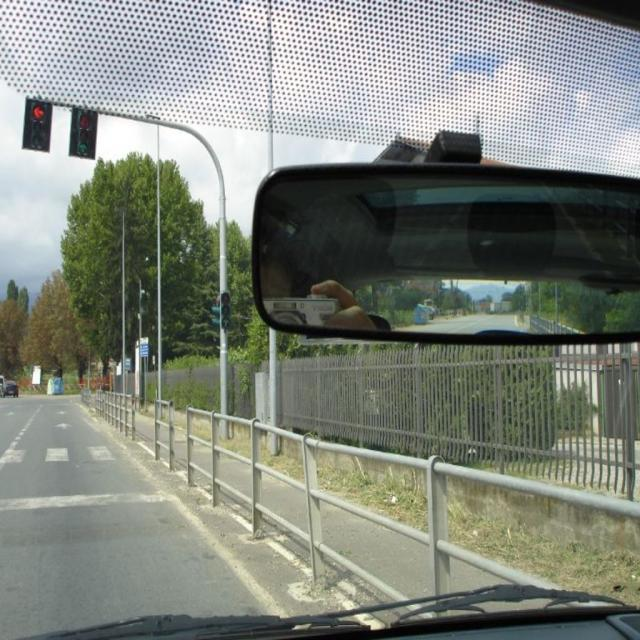traffic light: (19, 99, 57, 155), (72, 105, 102, 160)
